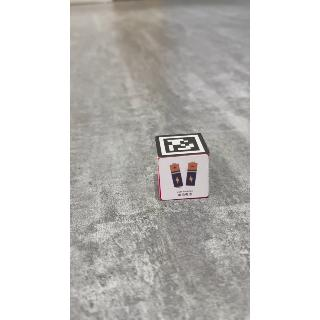Used_Battery: (158, 156, 213, 202)
